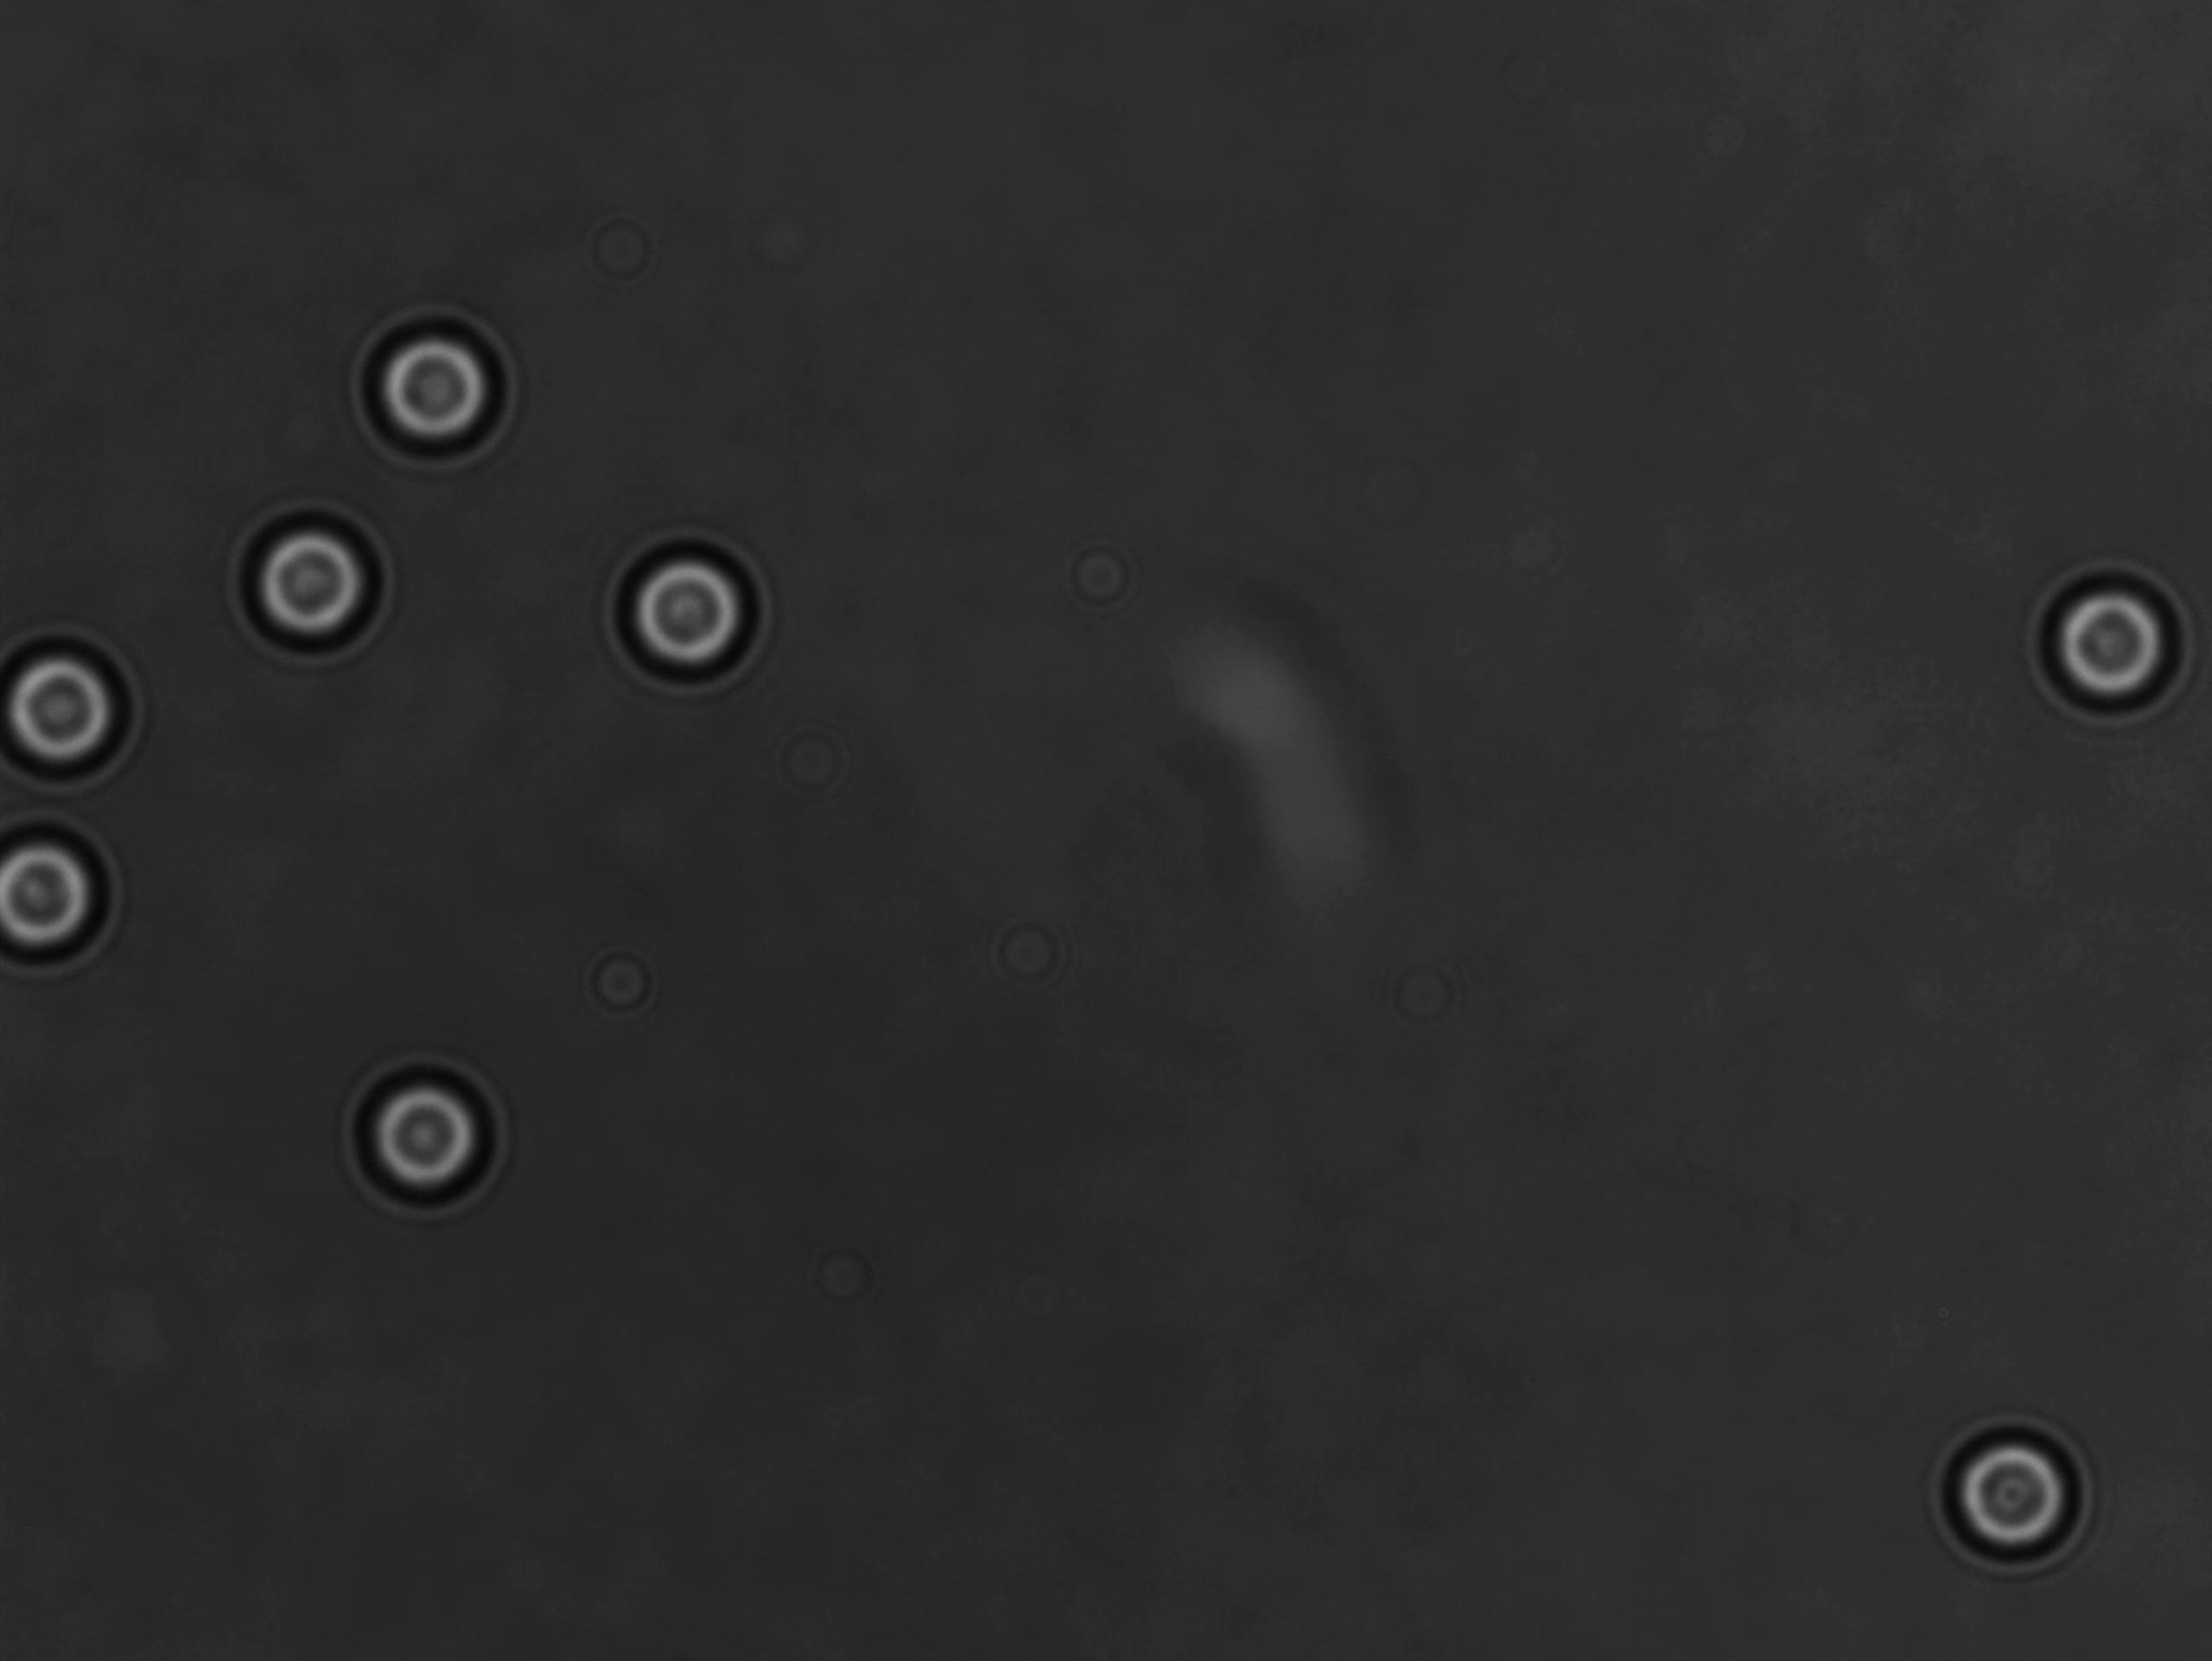depth:20: (2010, 534, 2205, 728), (338, 1043, 515, 1218), (345, 298, 518, 466), (1929, 1403, 2102, 1569), (604, 525, 766, 700), (223, 489, 379, 654)
